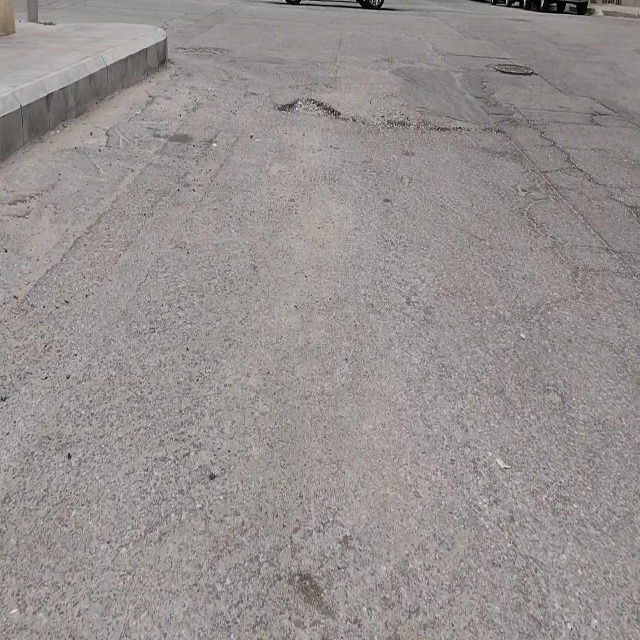pothole: (277, 98, 341, 119)
